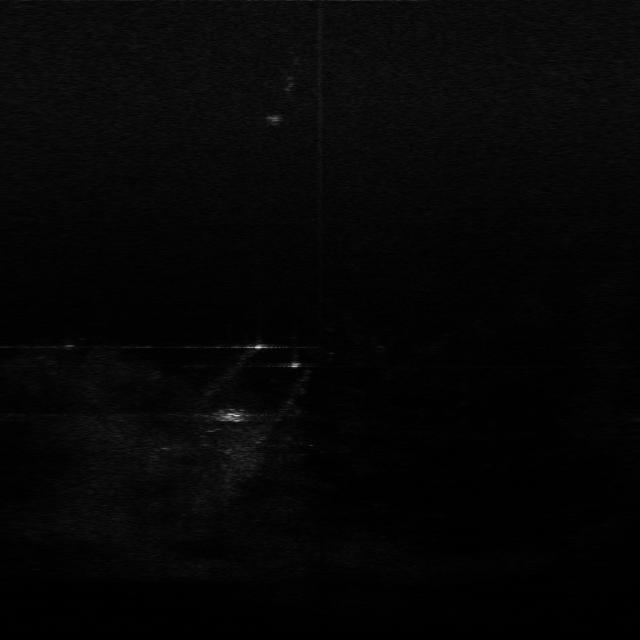rov: (214, 404, 247, 424)
